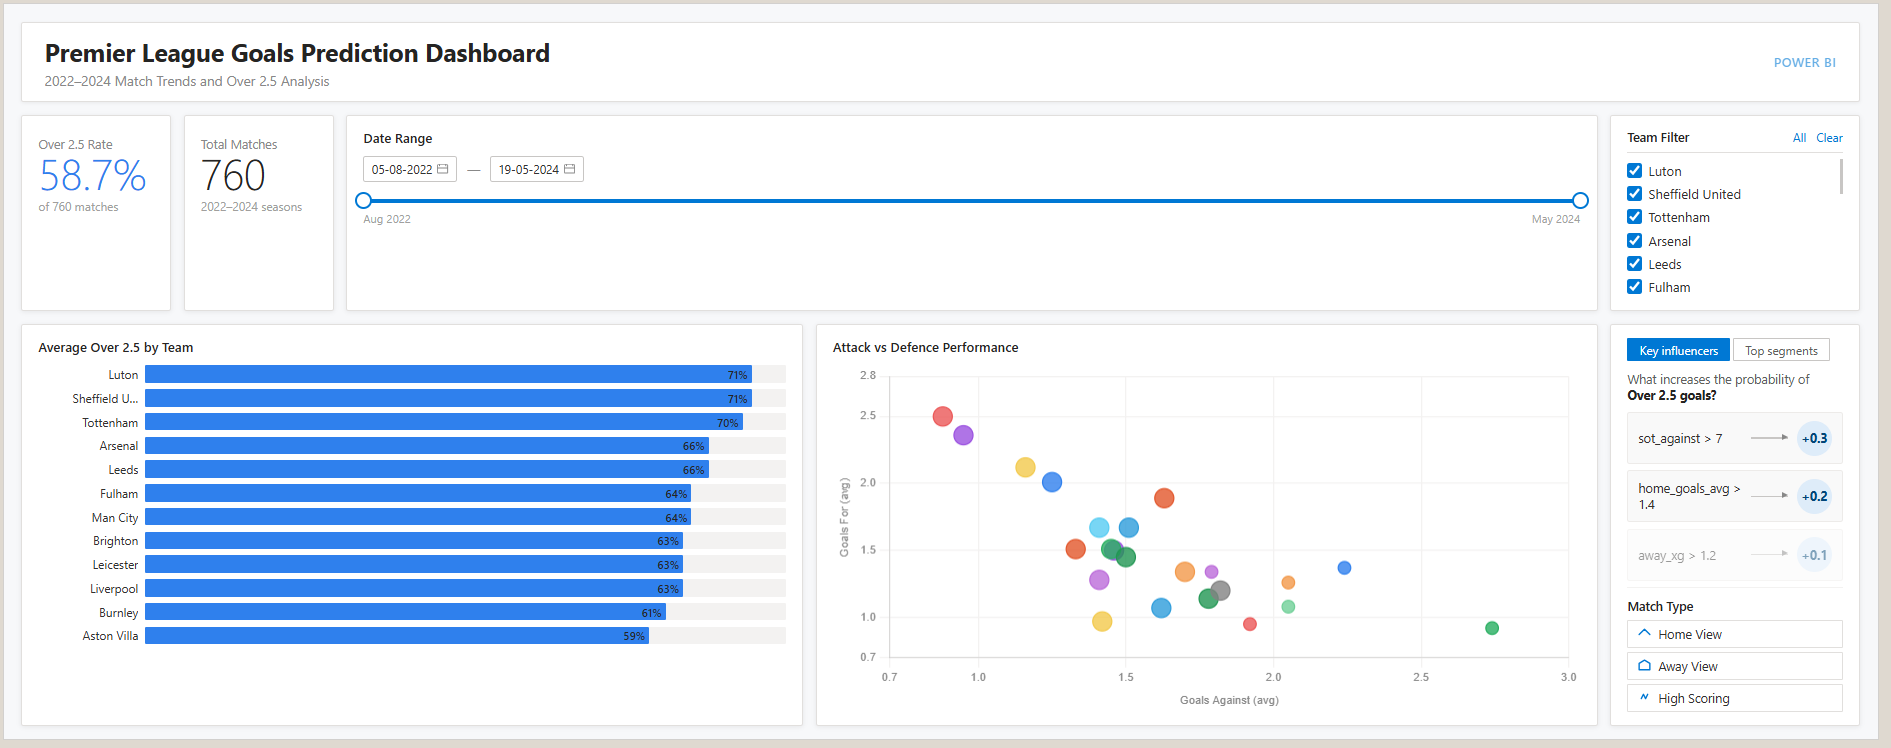

The page's visual inventory and layout, read from the dashboard file:
{"tool":"powerbi","page":{"name":"Match Details","canvas":[1280,720],"ordinal":2},"visuals":[{"type":"card","fields":{"Values":["epl_team_matches_clean.Over25 Rate"]},"box":[10,0,280,280],"z":0},{"type":"clusteredBarChart","fields":{"Category":["epl_team_matches_clean.team"],"Y":["Avg(epl_team_matches_clean.over25)"]},"box":[10,290,280,280],"z":1000},{"type":"keyDriversVisual","fields":{"Target":["epl_team_matches_clean.over25"],"ExplainBy":["epl_team_matches_clean.shots_for","epl_team_matches_clean.shots_against","epl_team_matches_clean.sot_for","epl_team_matches_clean.sot_against","epl_team_matches_clean.corners_for","epl_team_matches_clean.corners_against","epl_team_matches_clean.is_home"]},"box":[871.7,0,408.3,280],"z":2000},{"type":"slicer","fields":{"Values":["epl_team_matches_clean.team"]},"box":[871.7,290,408.3,280],"z":3000},{"type":"slicer","fields":{"Values":["epl_team_matches_clean.Date"]},"box":[433.3,290,280,186.7],"z":4000},{"type":"textbox","box":[403.3,0,280,96.7],"z":5000},{"type":"actionButton","title":"🏠 Home View","box":[303.3,100,100,40],"z":6000},{"type":"actionButton","title":"✈️ Away View","box":[303.3,156.7,100,40],"z":7000},{"type":"actionButton","title":"⚽ High Scoring","box":[303.3,211.7,100,40],"z":8000}]}

Visuals, with their boxes on the page's 1280x720 design canvas (x1, y1, x2, y2). These are canvas units, not pixel positions in the 1891x748 screenshot, which may show the page scaled, cropped or inside an application window:
card - epl_team_matches_clean.Over25 Rate: (x1=10, y1=0, x2=290, y2=280)
clusteredBarChart - epl_team_matches_clean.team x Avg(epl_team_matches_clean.over25): (x1=10, y1=290, x2=290, y2=570)
keyDriversVisual - epl_team_matches_clean.over25 x epl_team_matches_clean.shots_for: (x1=872, y1=0, x2=1280, y2=280)
slicer - epl_team_matches_clean.team: (x1=872, y1=290, x2=1280, y2=570)
slicer - epl_team_matches_clean.Date: (x1=433, y1=290, x2=713, y2=477)
textbox: (x1=403, y1=0, x2=683, y2=97)
"🏠 Home View" actionButton: (x1=303, y1=100, x2=403, y2=140)
"✈️ Away View" actionButton: (x1=303, y1=157, x2=403, y2=197)
"⚽ High Scoring" actionButton: (x1=303, y1=212, x2=403, y2=252)
